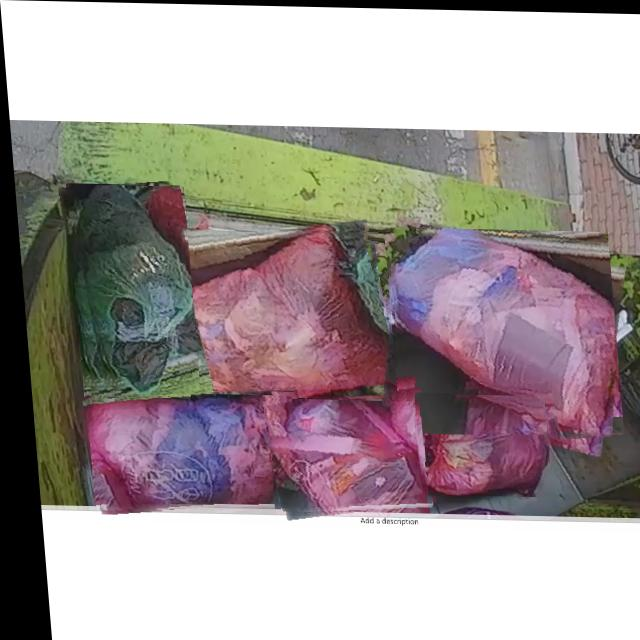general_trashbag: (72, 185, 191, 397)
other_trashbag: (386, 227, 611, 439), (166, 229, 389, 405), (82, 395, 289, 510), (263, 399, 425, 511), (413, 395, 541, 493)
